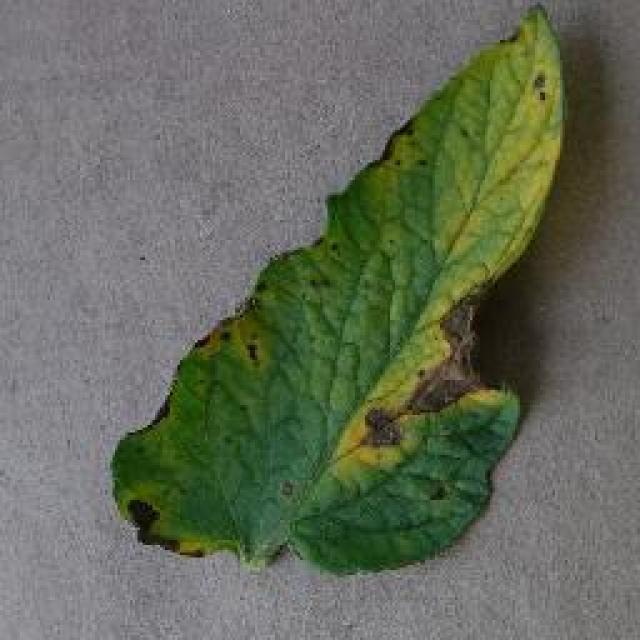Tomato Early blight leaf: (144, 9, 556, 586)
